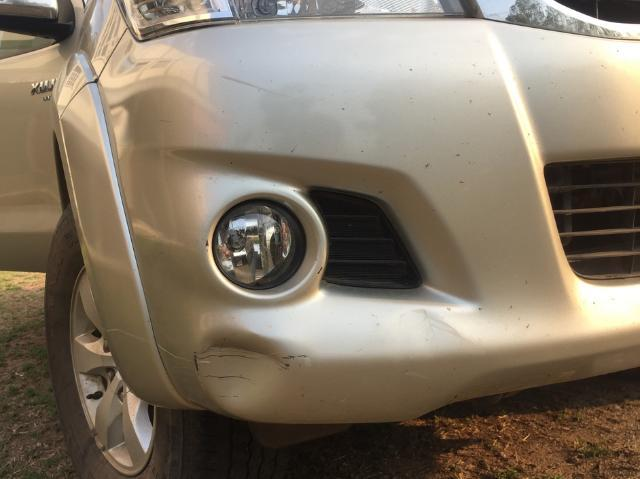Bumper: (108, 296, 557, 422)
